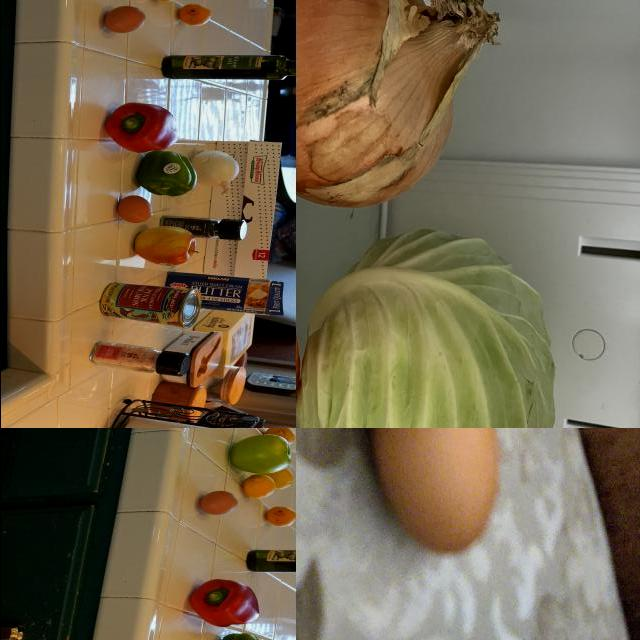bell_pepper: (102, 100, 176, 156), (187, 579, 260, 633), (136, 155, 198, 194), (164, 212, 250, 240)
cabbage: (296, 228, 558, 429)
egg: (366, 429, 503, 557), (102, 6, 146, 38), (197, 489, 239, 519), (114, 196, 154, 224)
onion: (296, 1, 504, 214), (190, 149, 240, 197)
